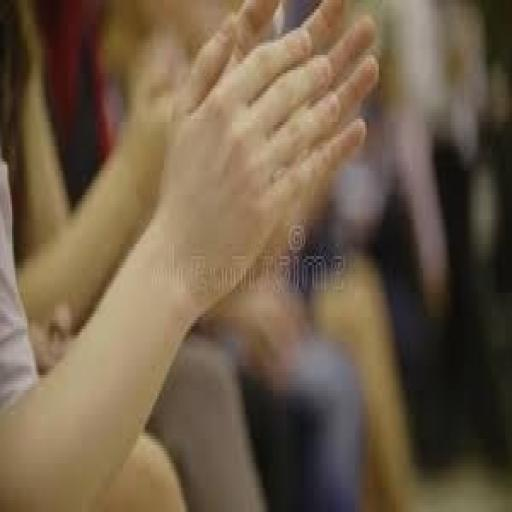clapping: (0, 0, 382, 509)
